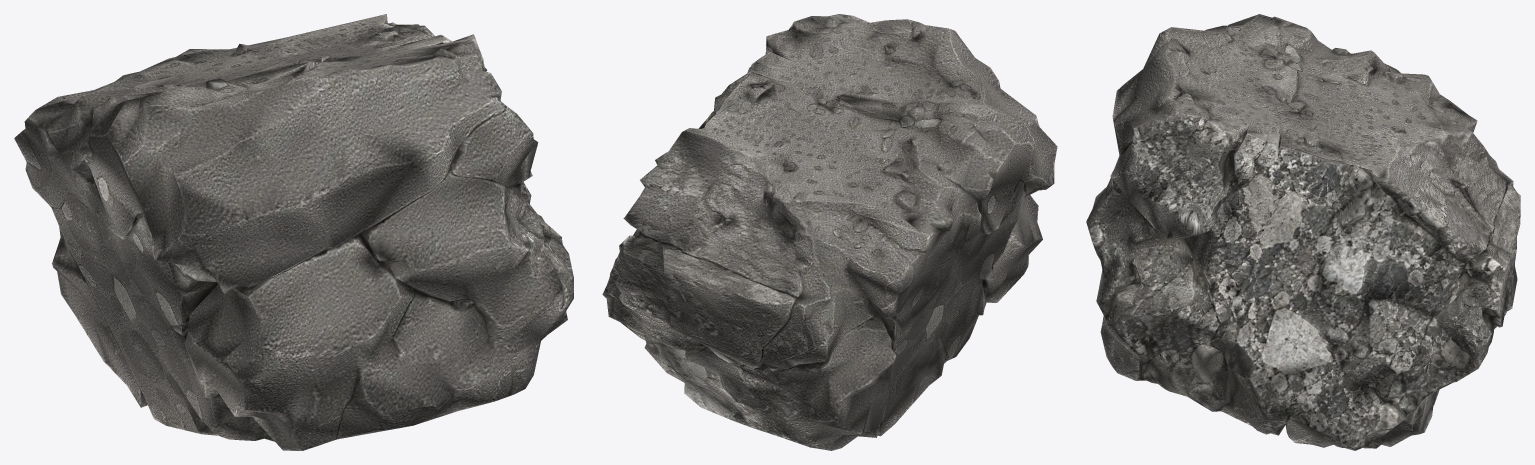
Rendered from rock-breccia.glb.
3 renders of one model, left to right at view 1: azimuth 30°, elevation 25°; view 2: azimuth 150°, elevation 25°; view 3: azimuth 270°, elevation 25°, orthographic. The views are drawn at different scales.
Parts seen in each view (by area): view 1: lod0; view 2: lod0; view 3: lod0.
Part boxes in pixels (x1=…): lod0: x1=14, y1=14, x2=573, y2=450; lod0: x1=602, y1=14, x2=1057, y2=450; lod0: x1=1086, y1=14, x2=1520, y2=450.
Size of what is drawn, in the model's own units: 0.9608 by 0.9061 by 0.993.
1 material, 1 textured.
